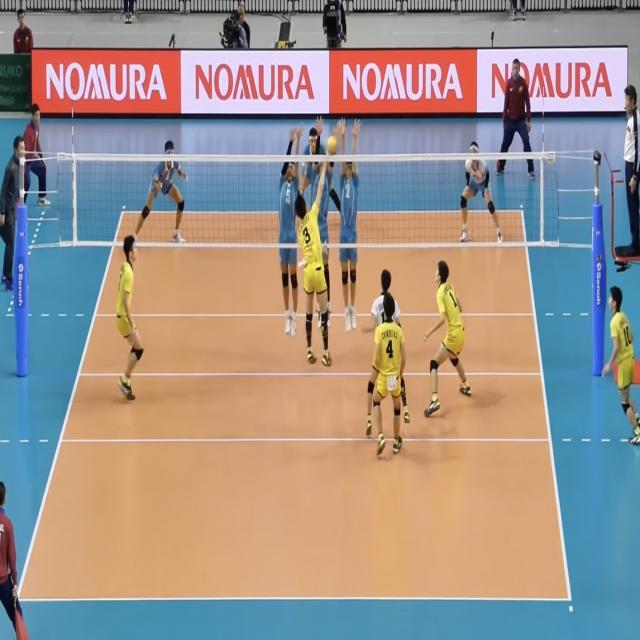spike: (288, 133, 342, 371)
